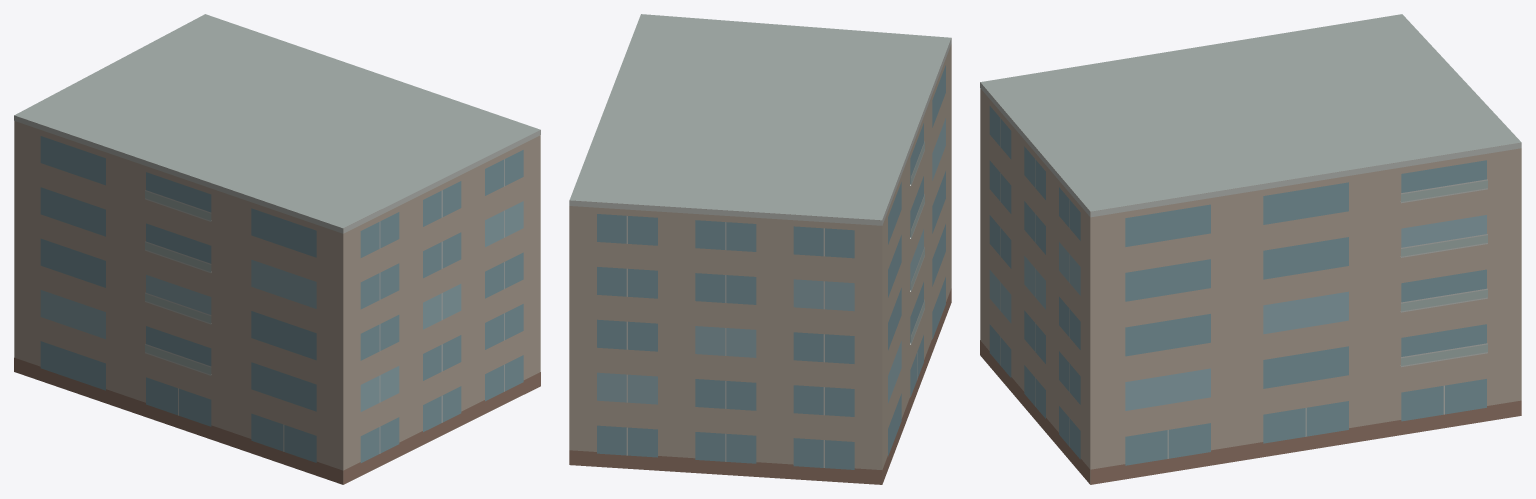
The model's file is survey-upis-32523653.glb.
The picture shows the model from 3 angles, left to right: view 1: azimuth 30°, elevation 25°; view 2: azimuth 150°, elevation 25°; view 3: azimuth 270°, elevation 25°; orthographic projection. The views are drawn at different scales.
Visible parts, largest first — view 1: survey-upis-32523653.tmp; view 2: survey-upis-32523653.tmp; view 3: survey-upis-32523653.tmp.
Boxes of the visible parts, x1=… form: survey-upis-32523653.tmp: x1=14, y1=14, x2=540, y2=484; survey-upis-32523653.tmp: x1=569, y1=14, x2=951, y2=484; survey-upis-32523653.tmp: x1=980, y1=14, x2=1521, y2=484.
Size of the model in its own units: 18.01 by 11.6 by 20.84.
